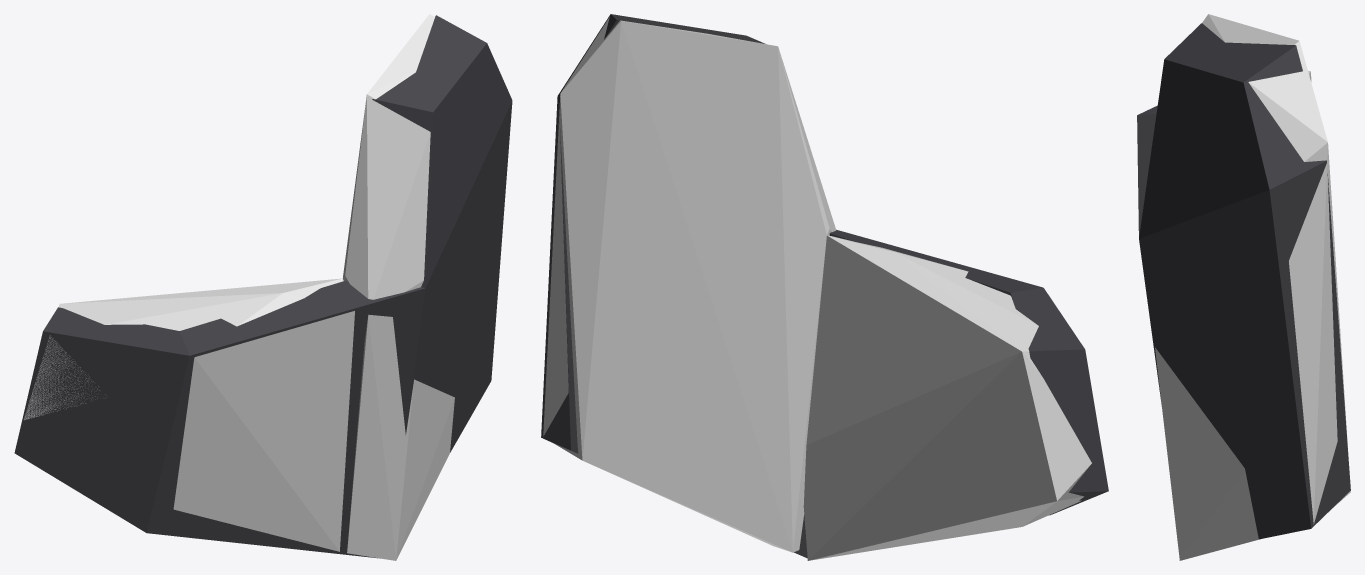
Rendered from SM_Env_Debris_Shell_02.fbx.
The picture shows the model from 3 angles, left to right: view 1: azimuth 30°, elevation 25°; view 2: azimuth 150°, elevation 25°; view 3: azimuth 270°, elevation 25°; orthographic projection. The views are drawn at different scales.
Parts seen in each view (by area): view 1: SM_Env_Debris_Shell_02_ConvexHulls, SM_Env_Debris_Shell_02_LOD0; view 2: SM_Env_Debris_Shell_02_ConvexHulls, SM_Env_Debris_Shell_02_LOD0; view 3: SM_Env_Debris_Shell_02_LOD0, SM_Env_Debris_Shell_02_ConvexHulls.
Part boxes in pixels (box(x1,y1,x2,y2)): SM_Env_Debris_Shell_02_ConvexHulls: box(24, 14, 454, 560); SM_Env_Debris_Shell_02_LOD0: box(14, 15, 512, 558); SM_Env_Debris_Shell_02_ConvexHulls: box(543, 17, 1091, 560); SM_Env_Debris_Shell_02_LOD0: box(541, 14, 1108, 558); SM_Env_Debris_Shell_02_LOD0: box(1137, 23, 1350, 539); SM_Env_Debris_Shell_02_ConvexHulls: box(1155, 14, 1350, 560).
Size of the model in its own units: 28.38 by 88.51 by 83.22.
1 material, 1 textured.
